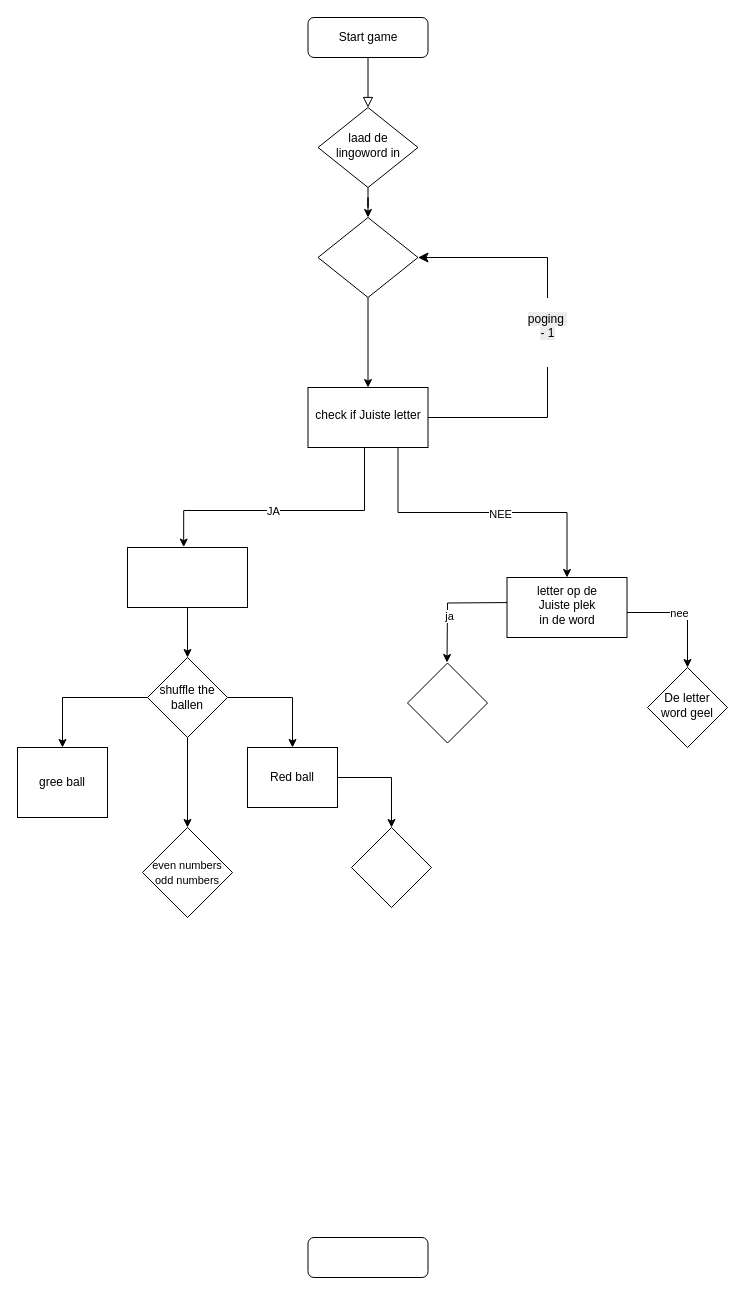
Some shapes in this 745 by 1295 pixel diagram are drawn without their labels. Here are the shapes that lost their labels. From the top down, the box of each, then its label:
(317, 216, 418, 298): 5pogingen met begin letter
(126, 546, 248, 608): Grab ball
(406, 662, 488, 743): De letter word groen
(307, 1236, 428, 1278): win
